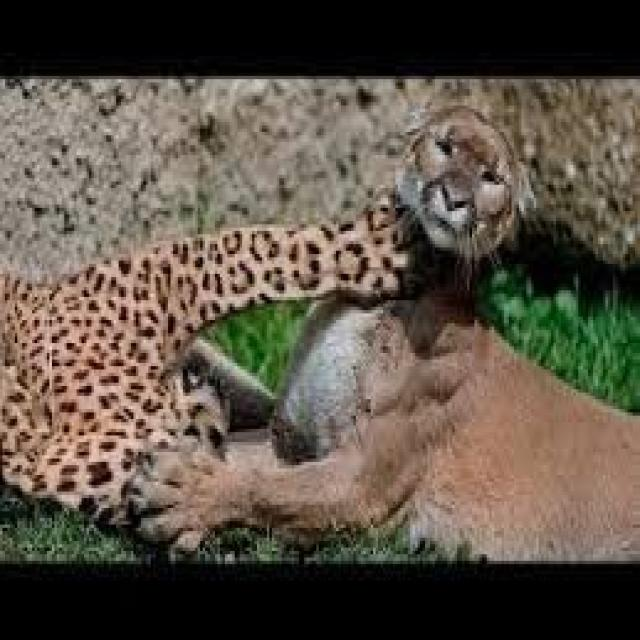Jaguar: (7, 261, 351, 554)
